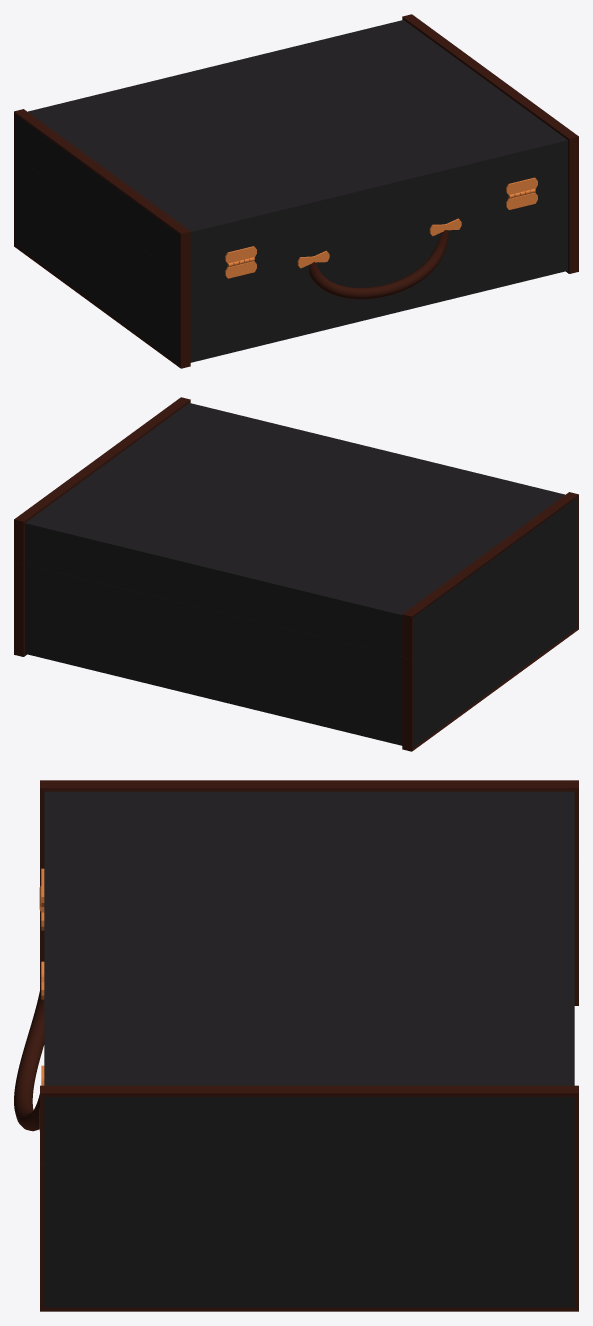
The model's file is Briefcase1.fbx.
The picture shows the model from 3 angles, top to bottom: view 1: azimuth 30°, elevation 25°; view 2: azimuth 150°, elevation 25°; view 3: azimuth 270°, elevation 25°; orthographic projection. The views are drawn at different scales.
Visible parts, largest first — view 1: Suitcase-top, suitcase-Bottom; view 2: Suitcase-top, suitcase-Bottom; view 3: Suitcase-top, suitcase-Bottom.
Part boxes in pixels (box(x1,y1,x2,y2)): Suitcase-top: box(14, 14, 578, 276); suitcase-Bottom: box(14, 155, 578, 368); Suitcase-top: box(14, 397, 578, 659); suitcase-Bottom: box(14, 538, 578, 751); Suitcase-top: box(39, 780, 578, 1164); suitcase-Bottom: box(14, 857, 578, 1311).
Bounding box in the file's own units: 1580 × 513 × 1204.
